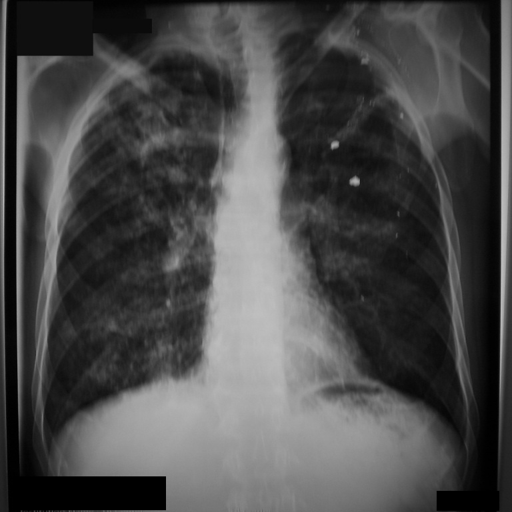TB: (320, 55, 403, 204), (130, 100, 191, 278)
